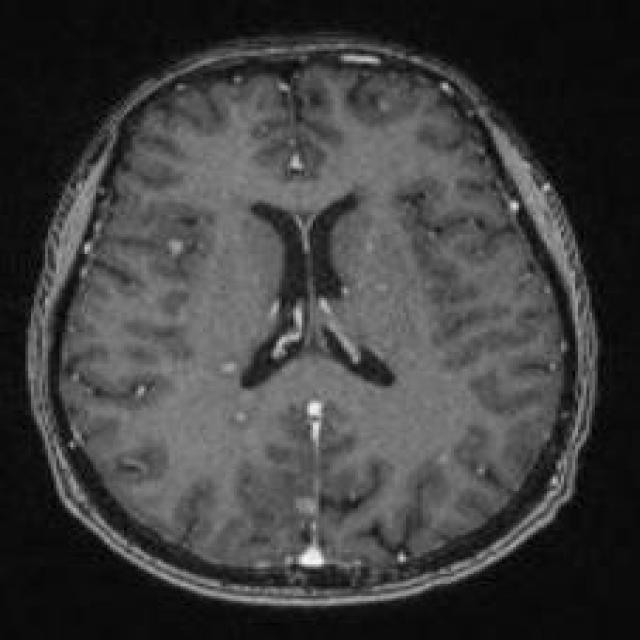notumor: (25, 34, 601, 611)
